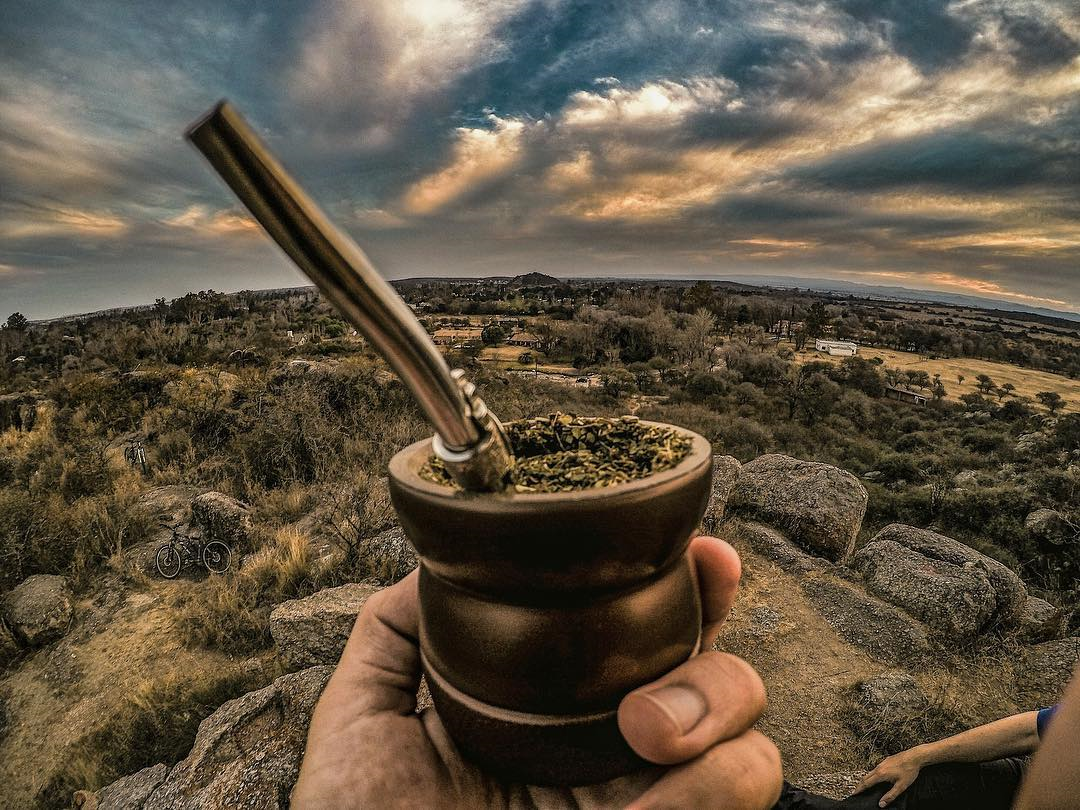calabaza: (386, 400, 732, 783)
mate: (388, 402, 734, 785)
